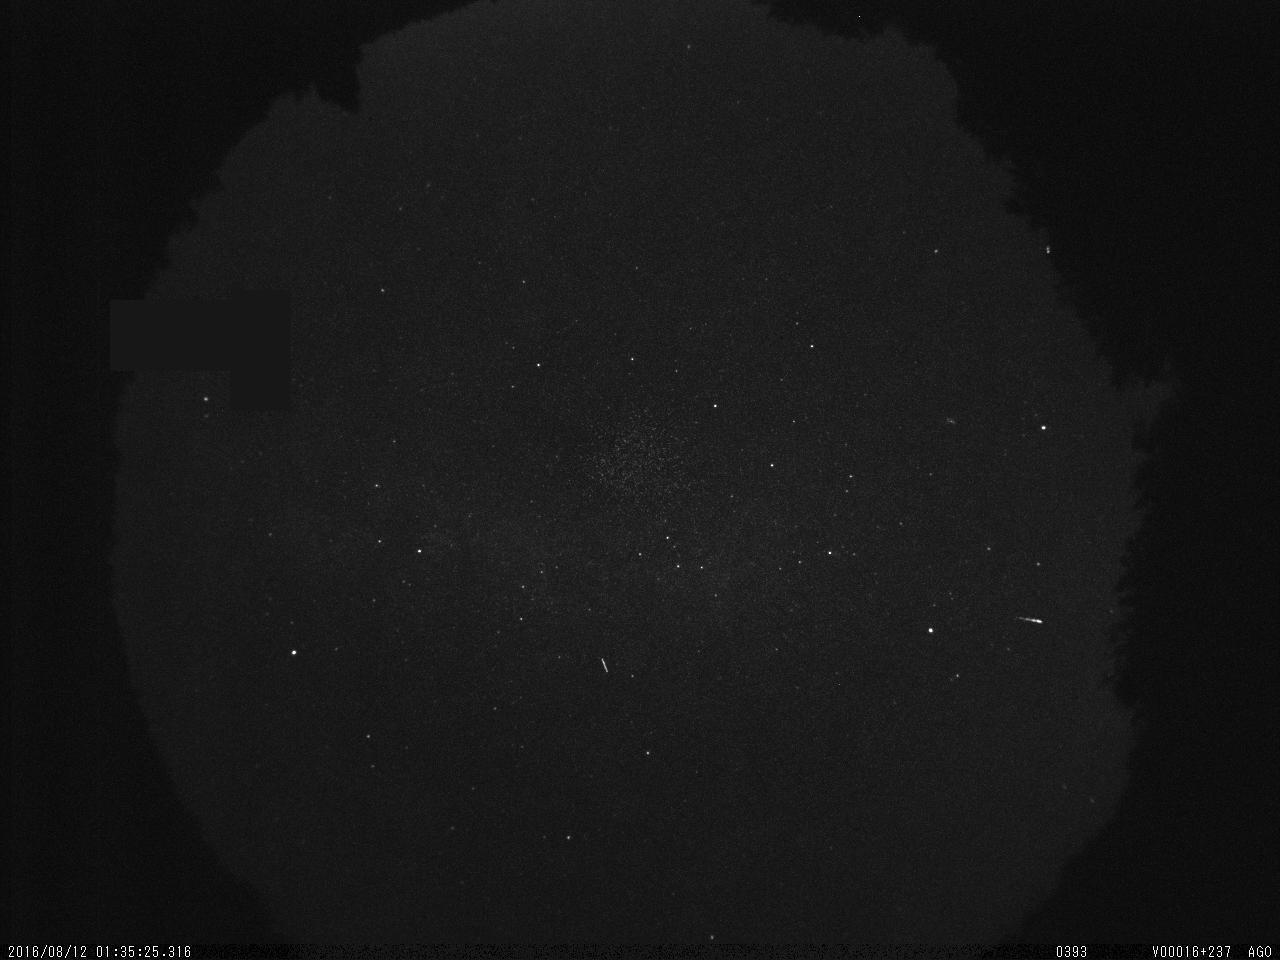Meteor: (1009, 611, 1047, 630)
